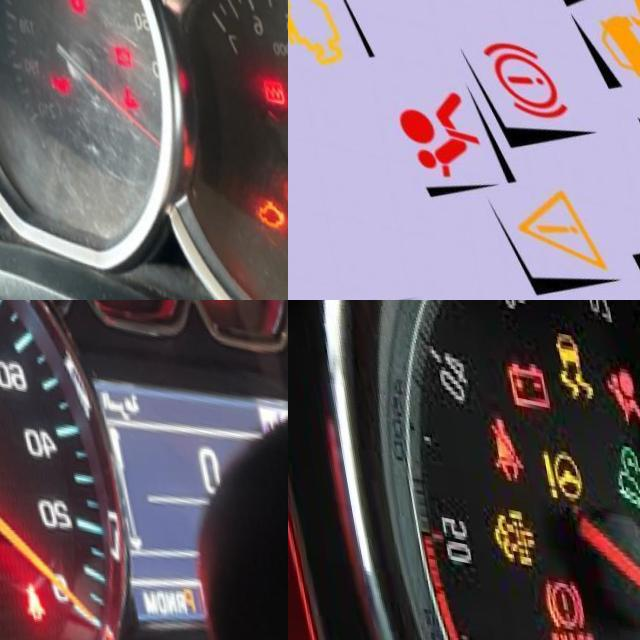Electronic Power Steering: (527, 433, 579, 493)
High Engine Coolant Temperature: (106, 70, 131, 100)
Seat Belt: (479, 401, 512, 470), (4, 563, 35, 615)
